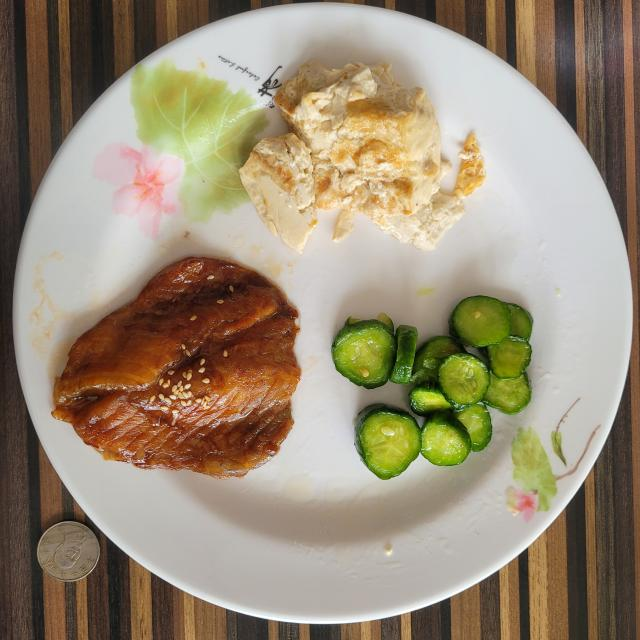Kabayaki sea bream fillet: (52, 258, 300, 478)
coin: (38, 521, 100, 581)
cucumber: (332, 296, 532, 479)
